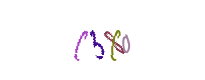3: (61, 0, 141, 80)
C: (57, 0, 137, 80), (67, 0, 147, 80)
O: (74, 0, 154, 80)
S: (62, 0, 142, 80)
